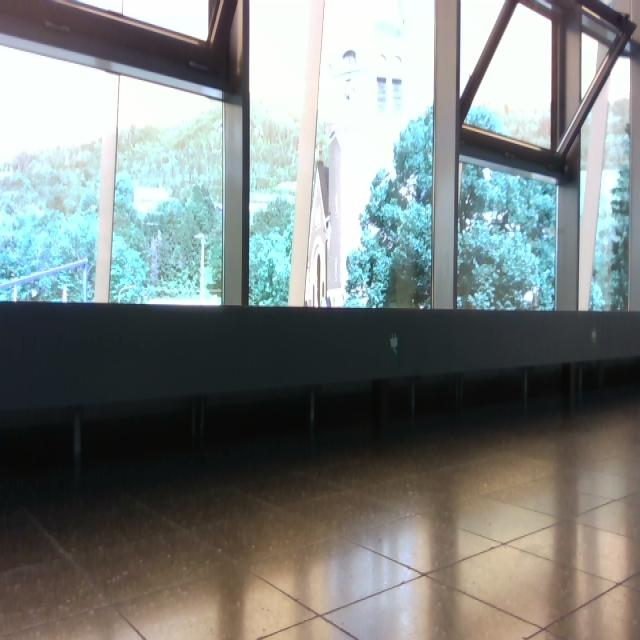light bulb: (133, 185, 170, 217), (194, 232, 207, 298), (342, 49, 357, 102), (376, 53, 388, 112), (391, 54, 403, 112), (389, 332, 399, 353), (482, 168, 492, 181)
tiled floor: (2, 395, 639, 639)
window: (1, 1, 639, 316)
